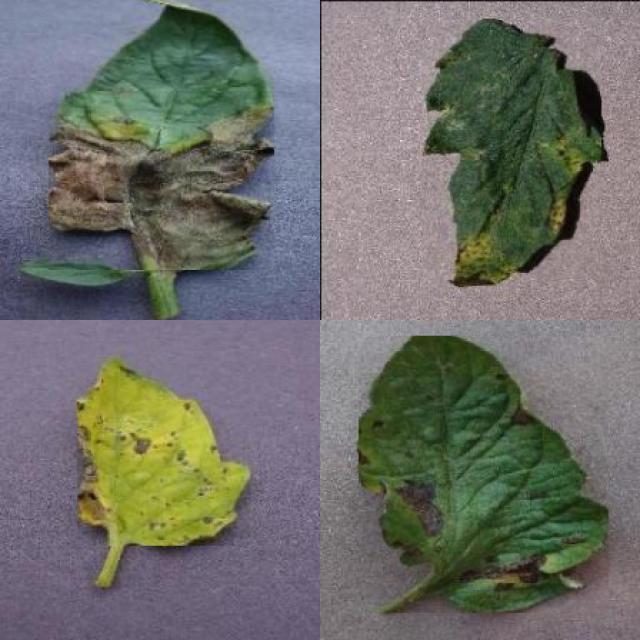Early Blight: (358, 336, 608, 614)
Late Blight: (48, 0, 275, 270)
Septoria: (422, 18, 602, 286), (78, 354, 251, 546)
